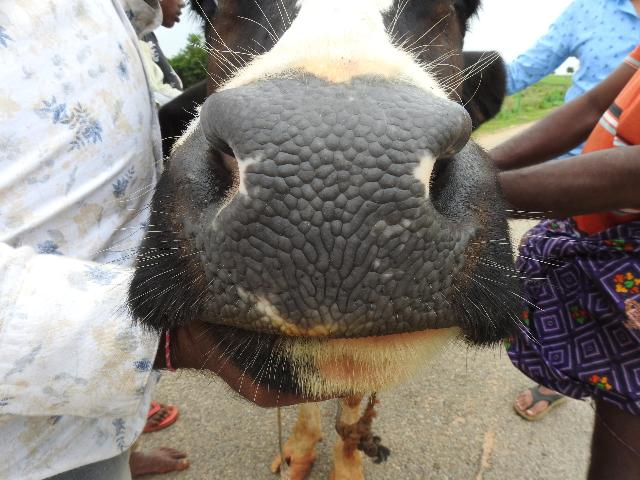Muzzle: (216, 92, 450, 326)
